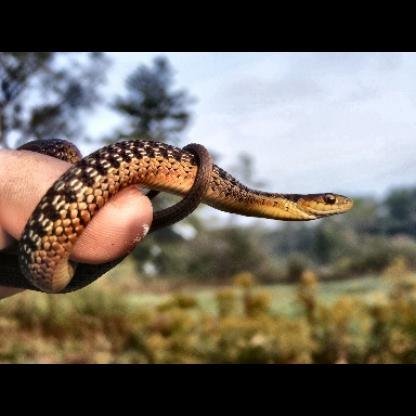Snake: (10, 117, 357, 293)
